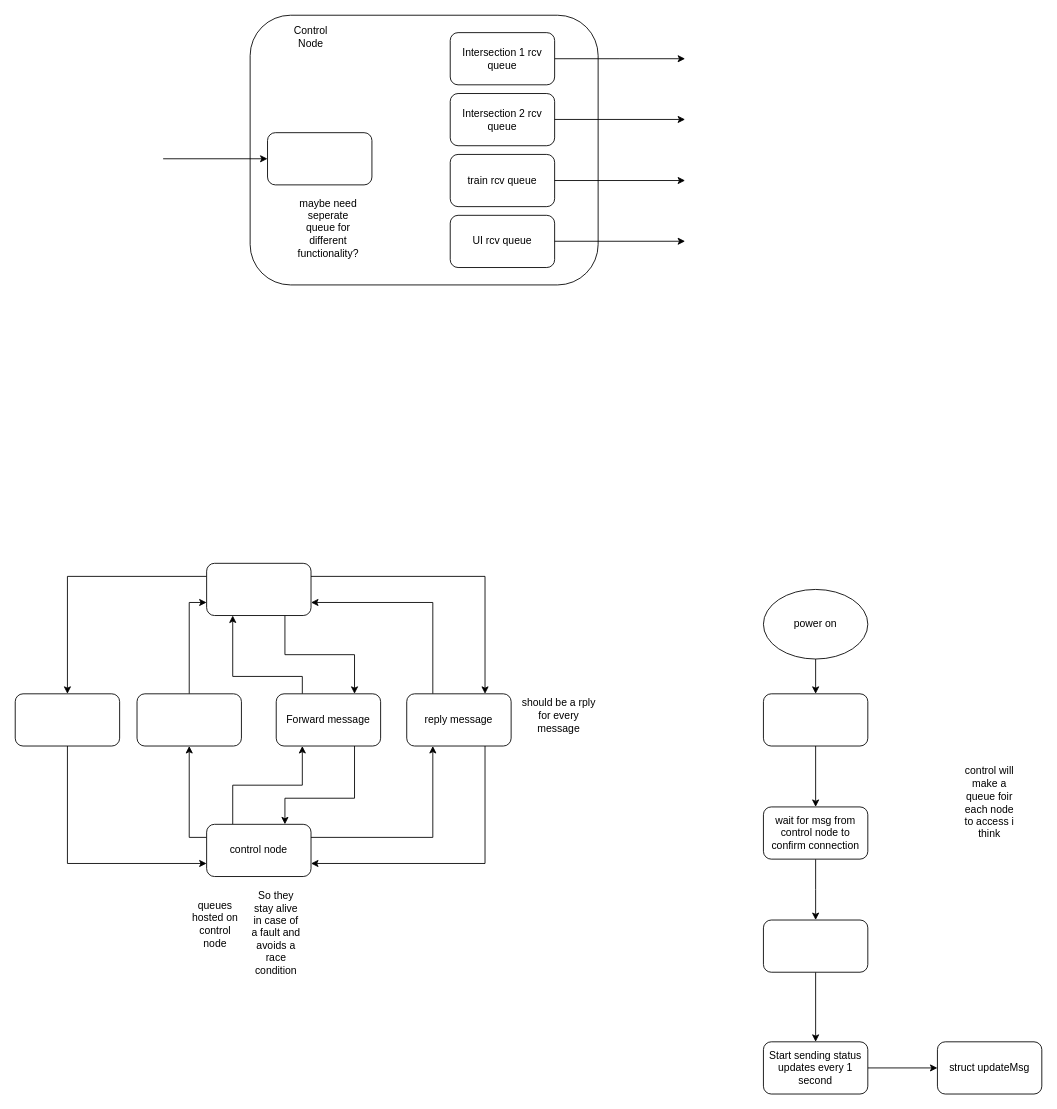
Image size: 1057x1109. Some labels were removed from this diagram. Each missing label, with the centre of its shape:
"control message" belongs at (188,719).
"initialise com channel msgqueue for now with control node" belongs at (815,719).
"Node send queue" belongs at (319,158).
"Nodes" belongs at (258,589).
"reply with node role?" belongs at (815,945).
"update msg" belongs at (67,719).
